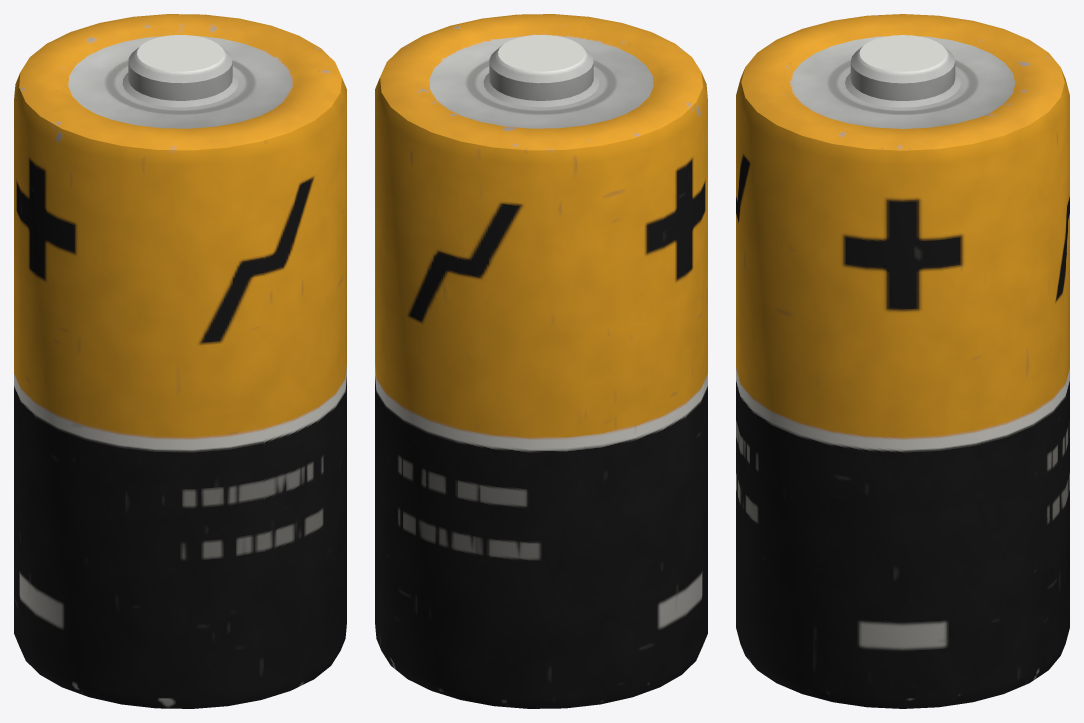
The model's file is Battery.fbx.
The picture shows the model from 3 angles, left to right: view 1: azimuth 30°, elevation 25°; view 2: azimuth 150°, elevation 25°; view 3: azimuth 270°, elevation 25°; orthographic projection.
Parts seen in each view (by area): view 1: Battery; view 2: Battery; view 3: Battery.
Boxes of the visible parts, x1,y1,x2,y2 form: Battery: [14, 14, 346, 708]; Battery: [375, 14, 707, 708]; Battery: [736, 14, 1069, 708].
Bounding box in the file's own units: 0.46 × 0.9 × 0.46.
Materials: 1 (1 with a texture image).
